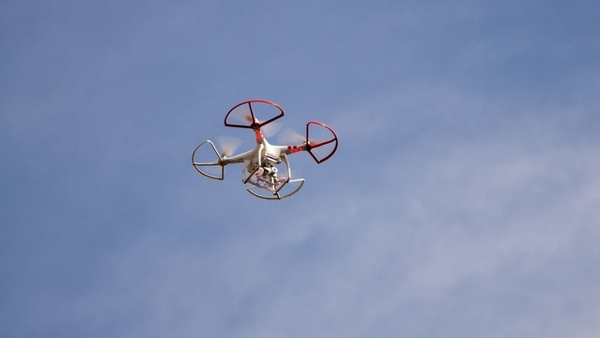drone: (189, 97, 340, 202)
